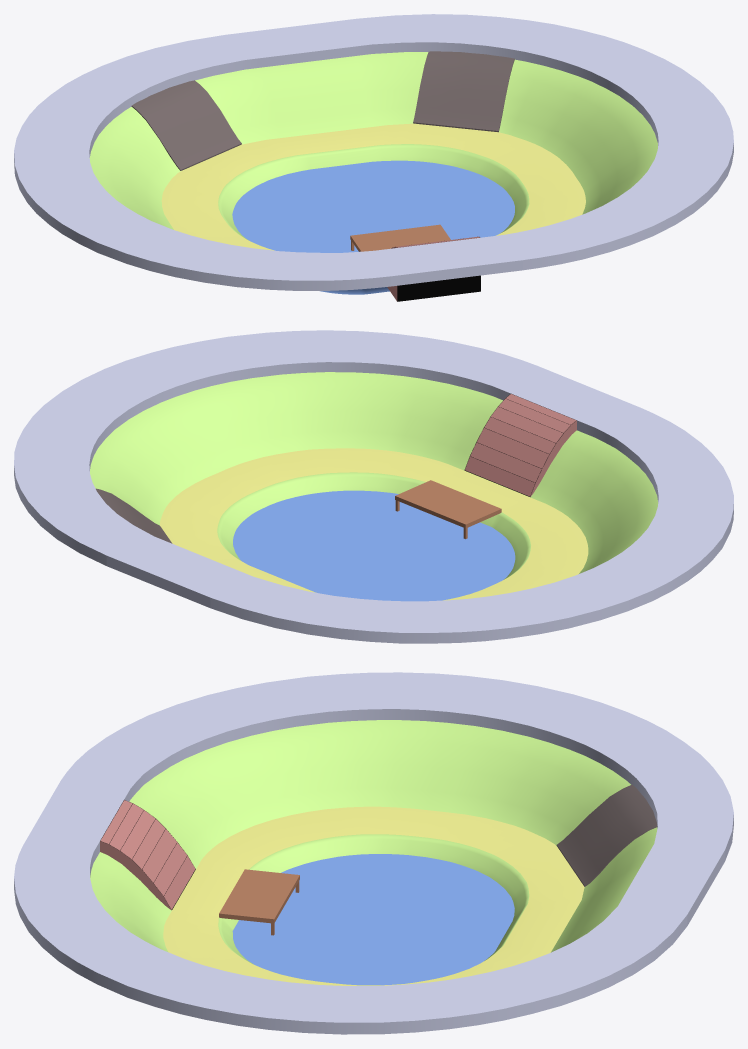
File: bdp.fbx
3 renders of one model, top to bottom at view 1: azimuth 30°, elevation 25°; view 2: azimuth 150°, elevation 25°; view 3: azimuth 270°, elevation 25°, orthographic. The views are drawn at different scales.
Parts seen in each view (by area): view 1: bdp_03, bdp_04, bdp_02, bdp_06, bdp_01; view 2: bdp_03, bdp_04, bdp_06, bdp_01, bdp_02; view 3: bdp_03, bdp_04, bdp_06, bdp_02, bdp_01.
Boxes of the visible parts, x1,y1,x2,y2 form: bdp_03: (14, 14, 733, 290); bdp_04: (232, 160, 514, 294); bdp_02: (131, 51, 514, 170); bdp_06: (387, 236, 480, 301); bdp_01: (350, 224, 450, 251); bdp_03: (14, 330, 733, 643); bdp_04: (233, 490, 515, 601); bdp_06: (464, 393, 576, 496); bdp_01: (395, 480, 501, 528); bdp_02: (96, 488, 172, 543); bdp_03: (14, 672, 733, 1034); bdp_04: (232, 854, 514, 985); bdp_06: (100, 800, 195, 910); bdp_02: (556, 784, 657, 886); bdp_01: (219, 869, 299, 923).
Bounding box in the file's own units: 4.19 × 0.7416 × 3.64.
